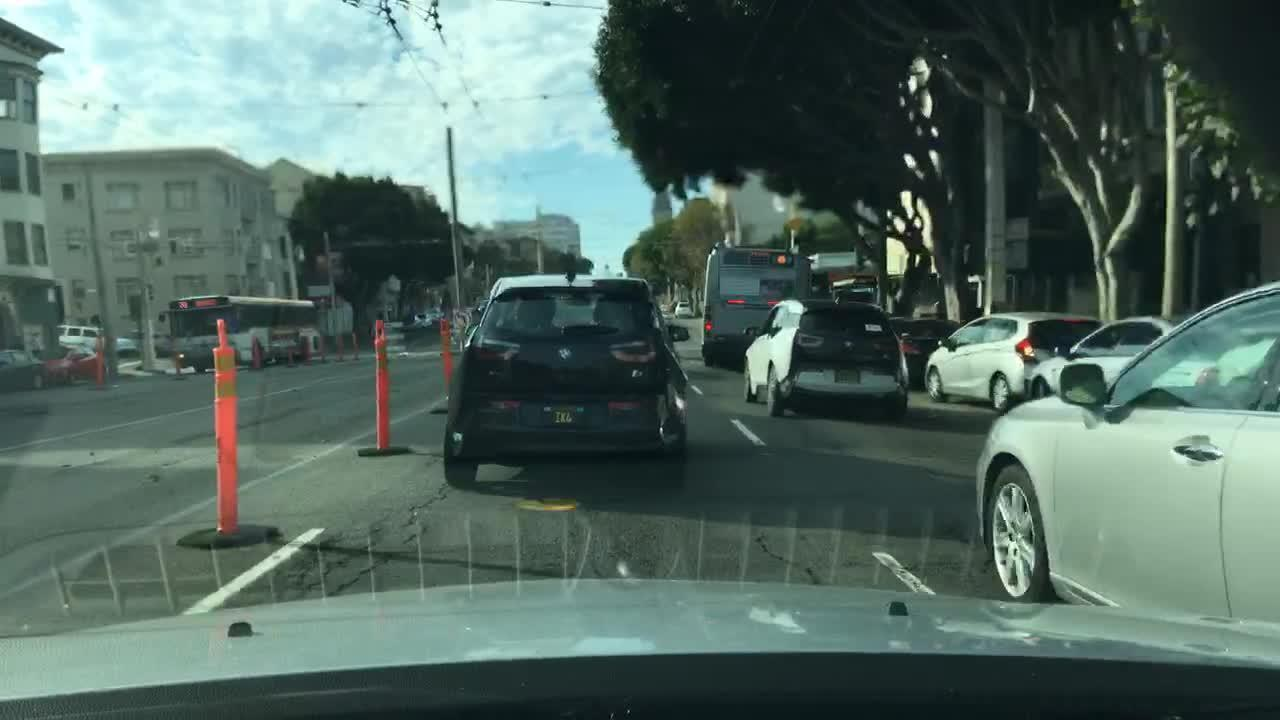bmw: (547, 341, 579, 363)
